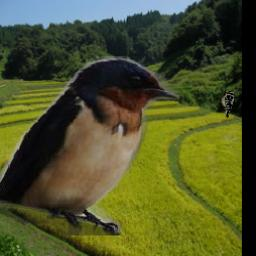Swallow: (0, 57, 179, 237)
Woodpecker: (219, 91, 235, 119)
